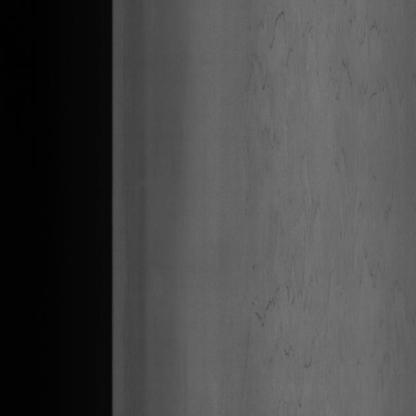silk_spot: (225, 35, 329, 305)
